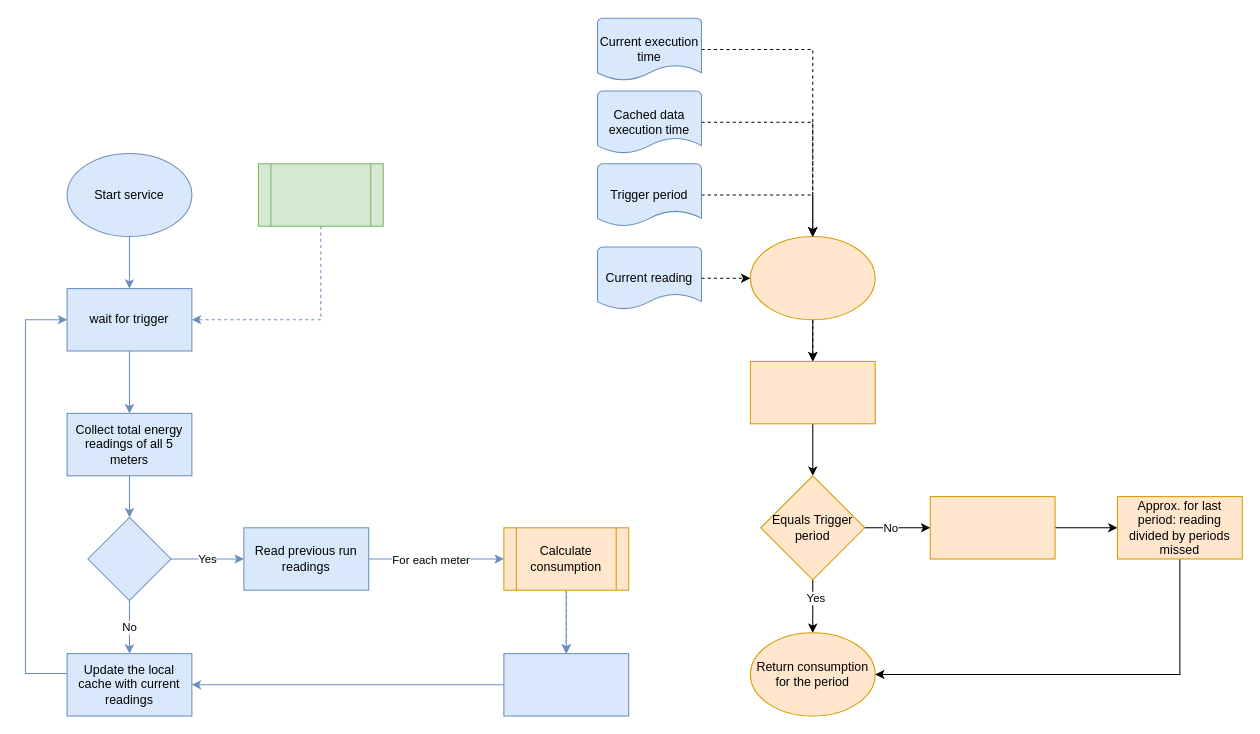
Image size: 1260x734. Some labels were removed from this diagram. Each missing label, with the centre of its shape:
# of periods missed: (delta divided by the trigger period): point 992,527
Calculate delta between current execution time and last execution: point 812,392
http call to trigger cron & curl command: point 320,194
Local cache exists?: point 129,558
Publish delta (consumption) to influxdb: point 566,684
Start consumption calculation: point 812,278
